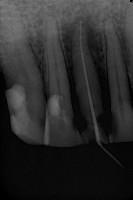Furcation Involvement: (62, 15, 105, 64)
